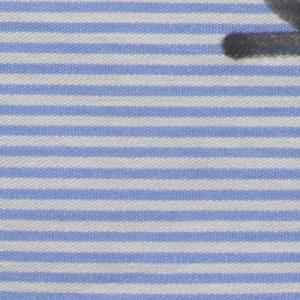Stain: (219, 1, 300, 66)
